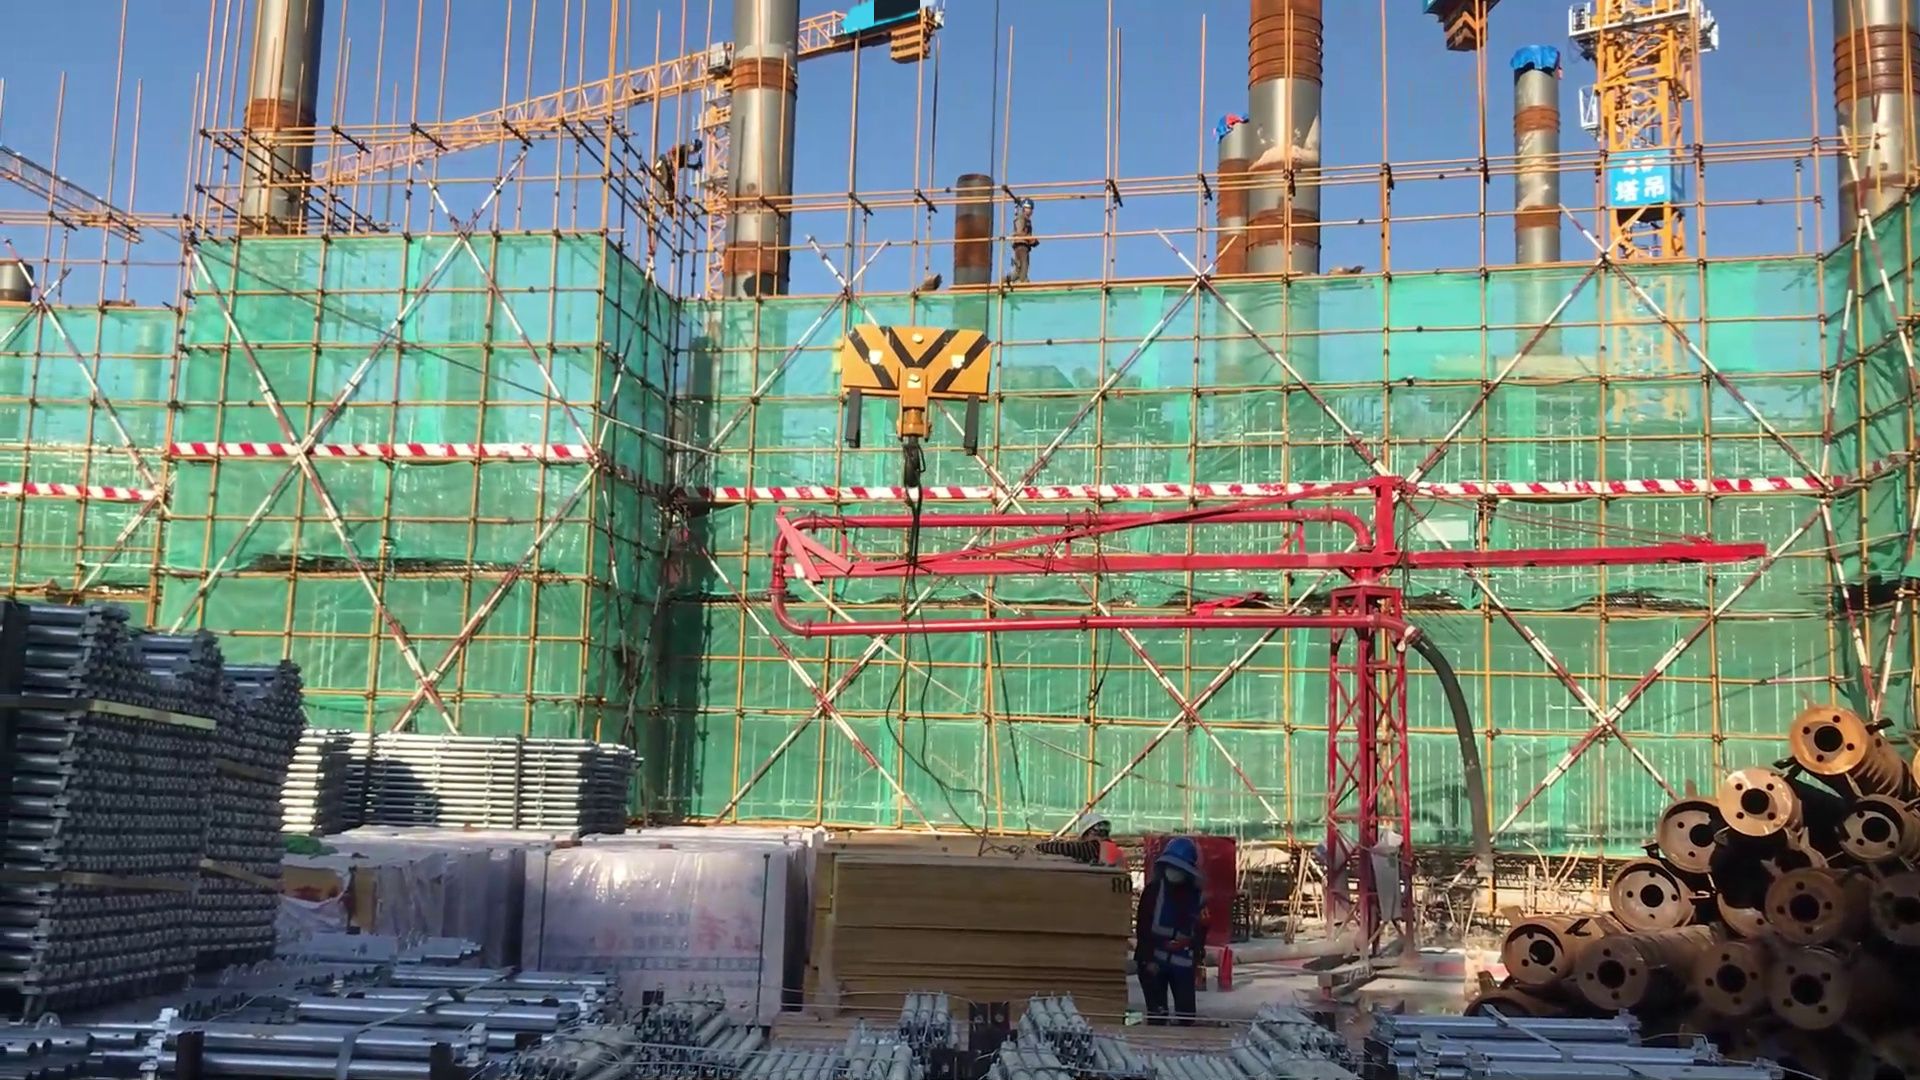board: (808, 831, 1131, 995)
helmet: (1154, 833, 1201, 875), (1075, 816, 1118, 844), (1019, 189, 1038, 214)
hook: (816, 309, 1019, 507)
person: (1133, 831, 1214, 1035), (1021, 817, 1129, 868), (1000, 186, 1038, 286)
scaffold: (5, 596, 309, 1007), (7, 895, 612, 1080), (270, 728, 640, 838), (615, 978, 981, 1080), (995, 987, 1364, 1080), (1369, 1009, 1723, 1080)
slogan: (1609, 152, 1677, 203)
vest: (1142, 878, 1210, 985), (1086, 838, 1129, 869)
